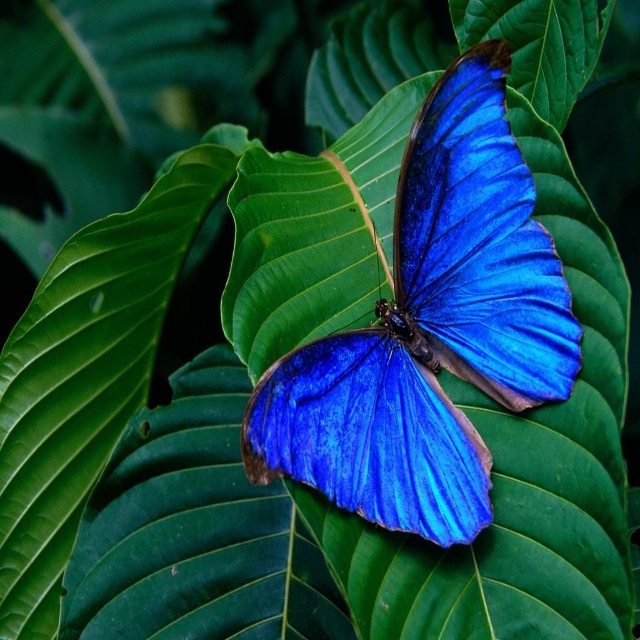Butterfly: (249, 65, 557, 566)
